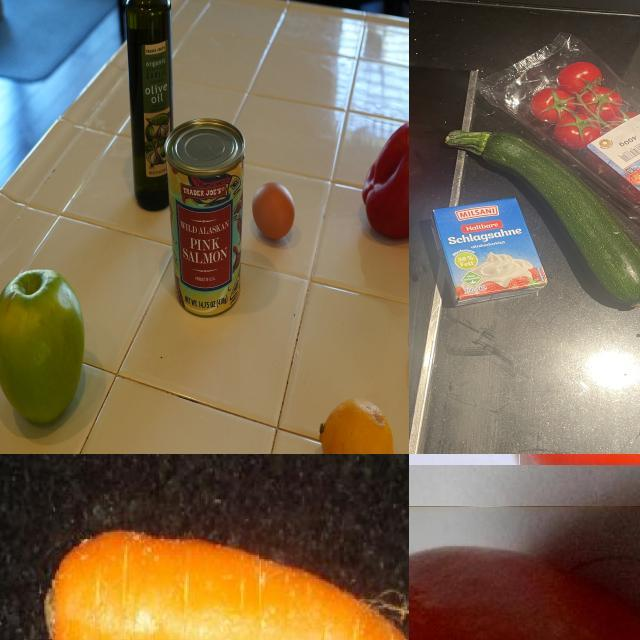bell_pepper: (342, 112, 410, 244)
carrot: (41, 533, 410, 640)
egg: (252, 180, 300, 249)
tomato: (550, 113, 606, 149), (525, 83, 569, 125), (557, 56, 599, 92)
zucchini: (449, 127, 640, 318)
